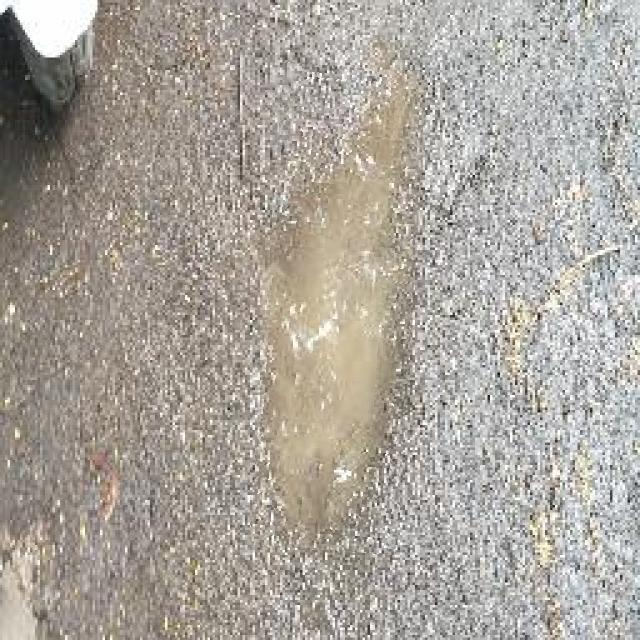puddle: (259, 66, 421, 554)
